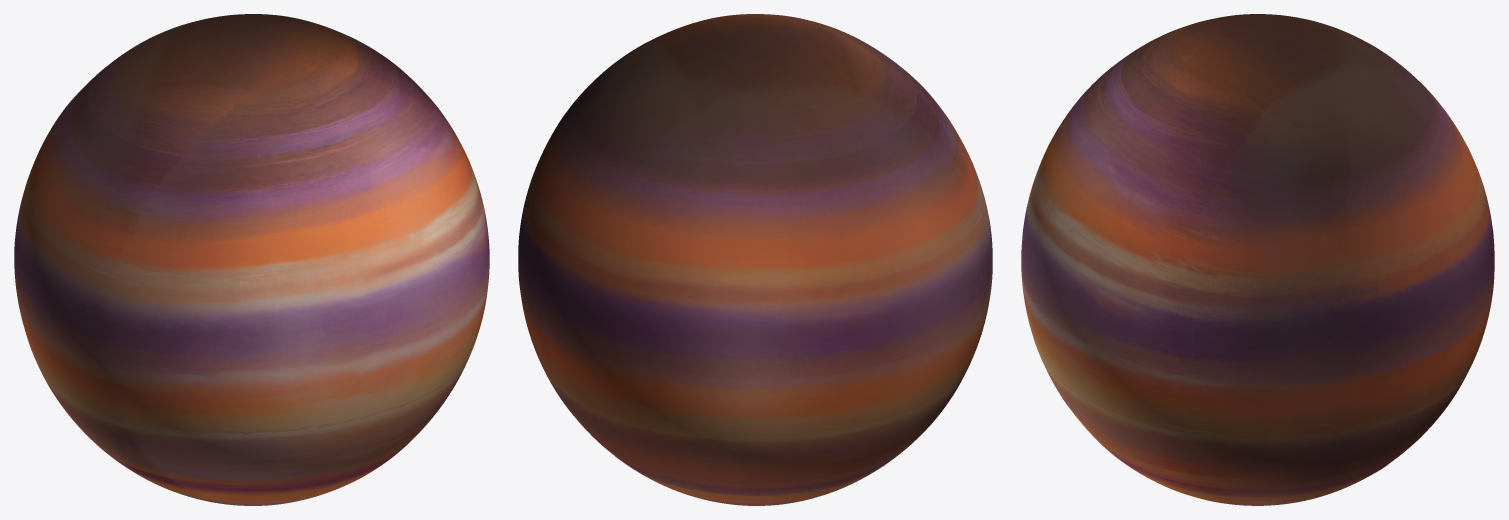
3 renders of one model, left to right at view 1: azimuth 30°, elevation 25°; view 2: azimuth 150°, elevation 25°; view 3: azimuth 270°, elevation 25°, orthographic.
Bounding box in the file's own units: 0.9626 × 1 × 0.9589.
Materials: 1 (1 with a texture image).
